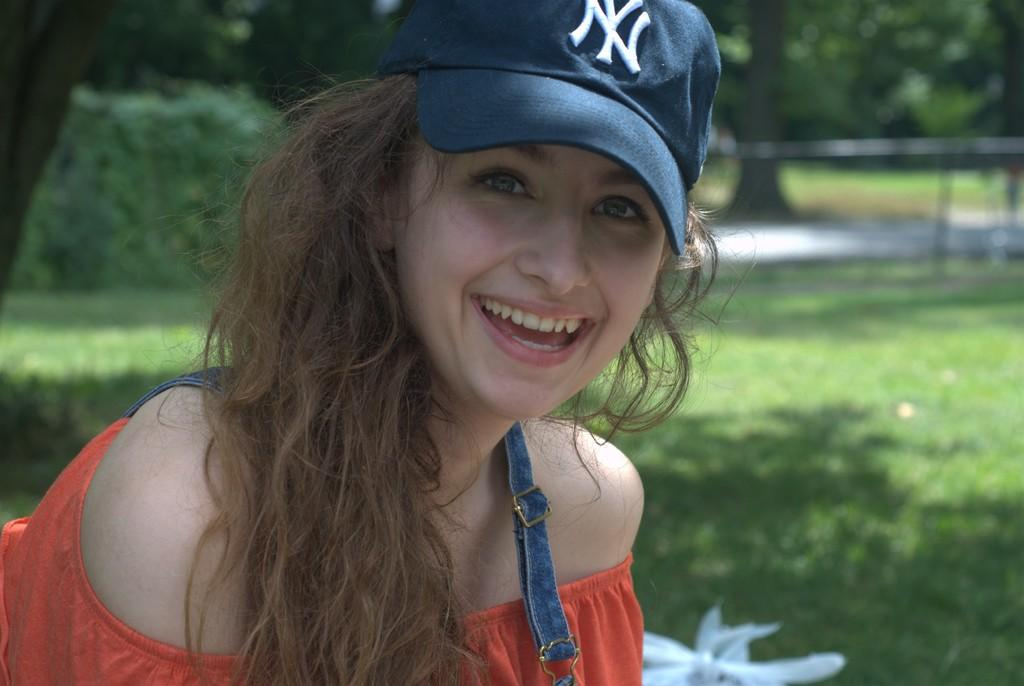Hat: (378, 0, 724, 257)
